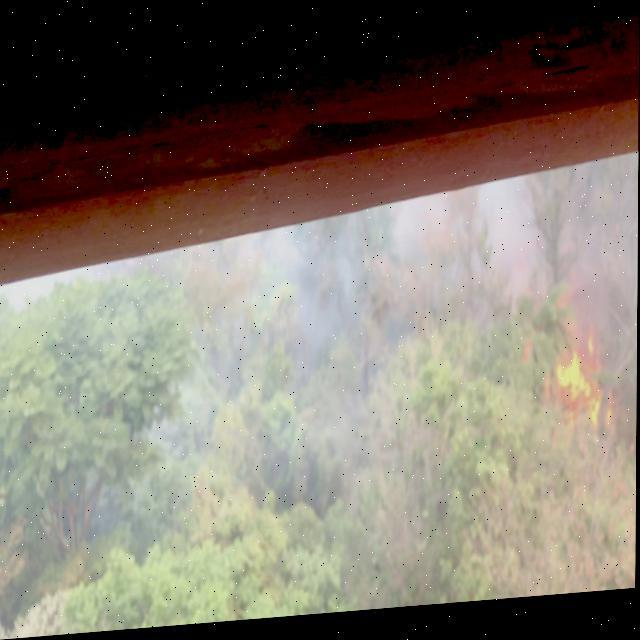Fire: (548, 290, 614, 438)
